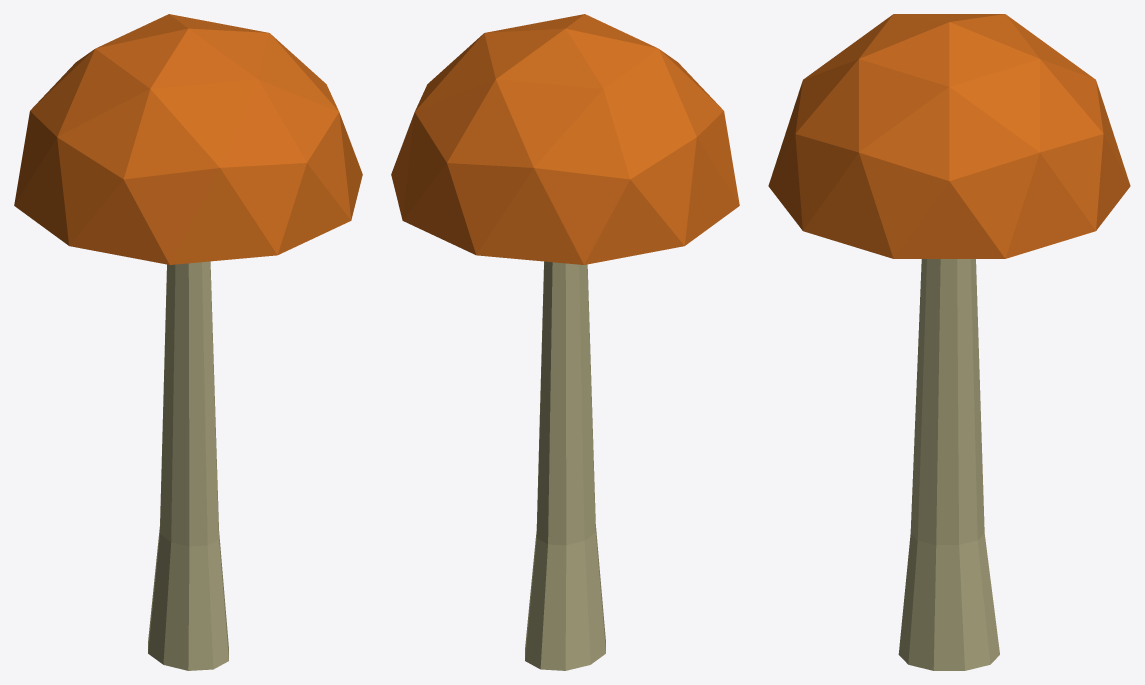
The model's file is mushroom02_orange.fbx.
The picture shows the model from 3 angles, left to right: view 1: azimuth 30°, elevation 25°; view 2: azimuth 150°, elevation 25°; view 3: azimuth 270°, elevation 25°; orthographic projection.
Parts seen in each view (by area): view 1: mushroom02_orange; view 2: mushroom02_orange; view 3: mushroom02_orange.
Part boxes in pixels (x1,y1,x2,y2): mushroom02_orange: (14,14,362,670); mushroom02_orange: (391,14,739,670); mushroom02_orange: (768,14,1130,670).
Size of the model in its own units: 46.13 by 93.47 by 48.51.
